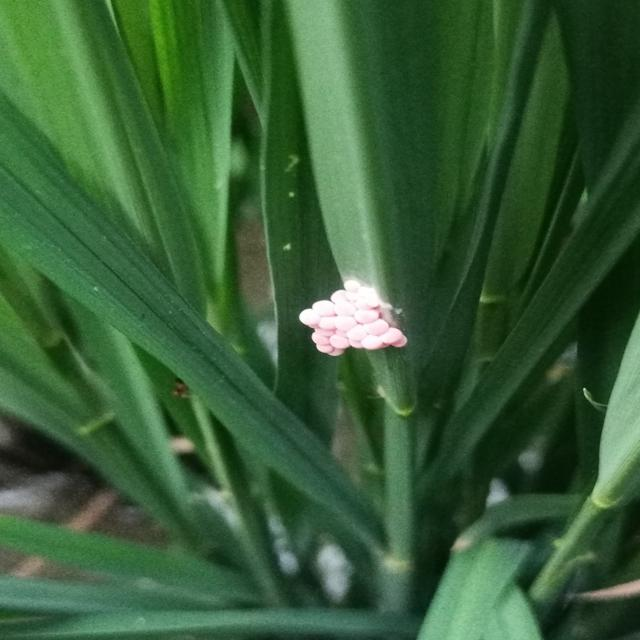Leaf blast: (293, 264, 410, 367)
